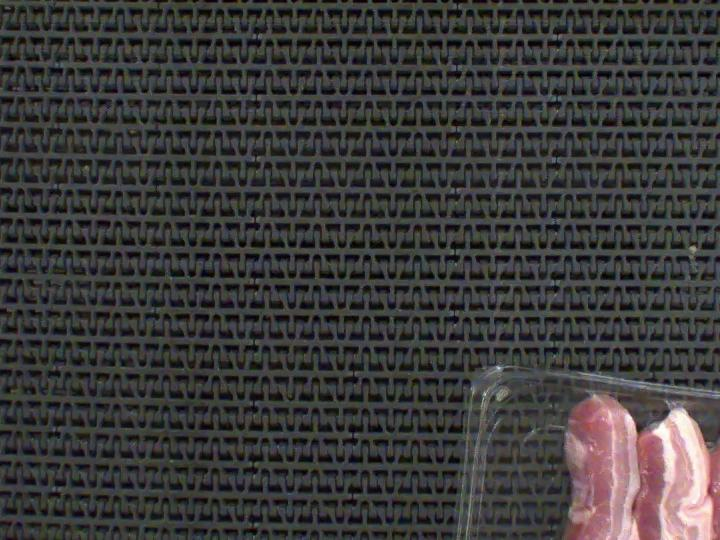packaging-error: (652, 392, 699, 419), (577, 378, 622, 406)
